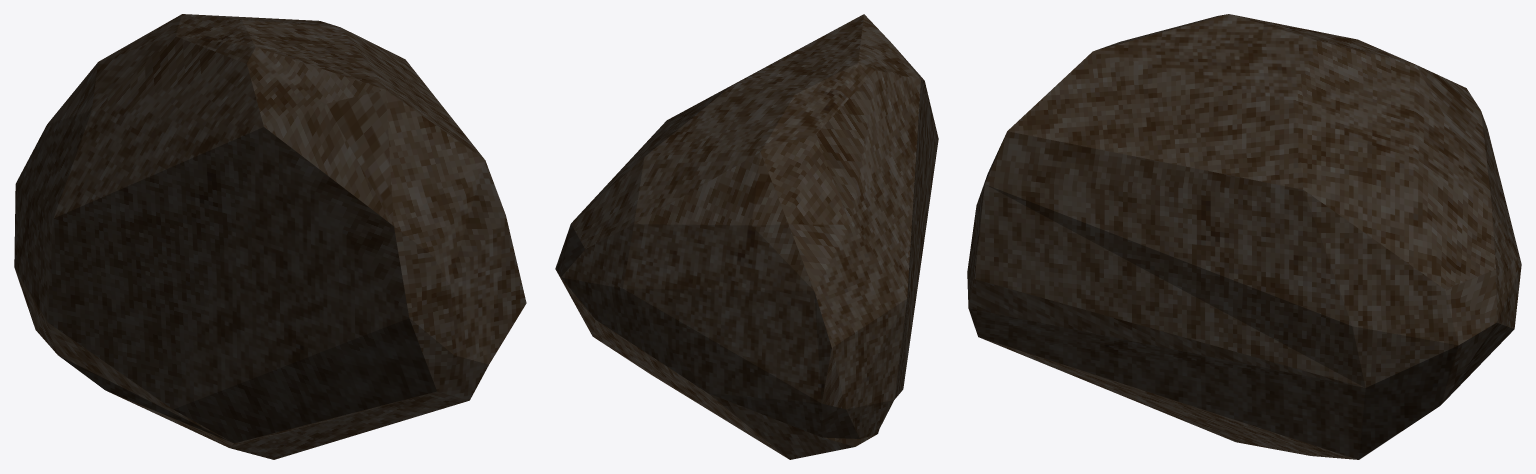
Rendered from cave-stone-piece2.glb.
3 views of the same model, side by side, from view 1: azimuth 30°, elevation 25°; view 2: azimuth 150°, elevation 25°; view 3: azimuth 270°, elevation 25° (orthographic). The views are drawn at different scales.
Parts seen in each view (by area): view 1: Cube_cell.007; view 2: Cube_cell.007; view 3: Cube_cell.007.
Boxes of the visible parts, x1,y1,x2,y2 form: Cube_cell.007: (14,14,526,459); Cube_cell.007: (555,14,938,459); Cube_cell.007: (967,14,1521,459).
Bounding box in the file's own units: 0.9097 × 1.02 × 1.18.
1 material, 1 textured.
